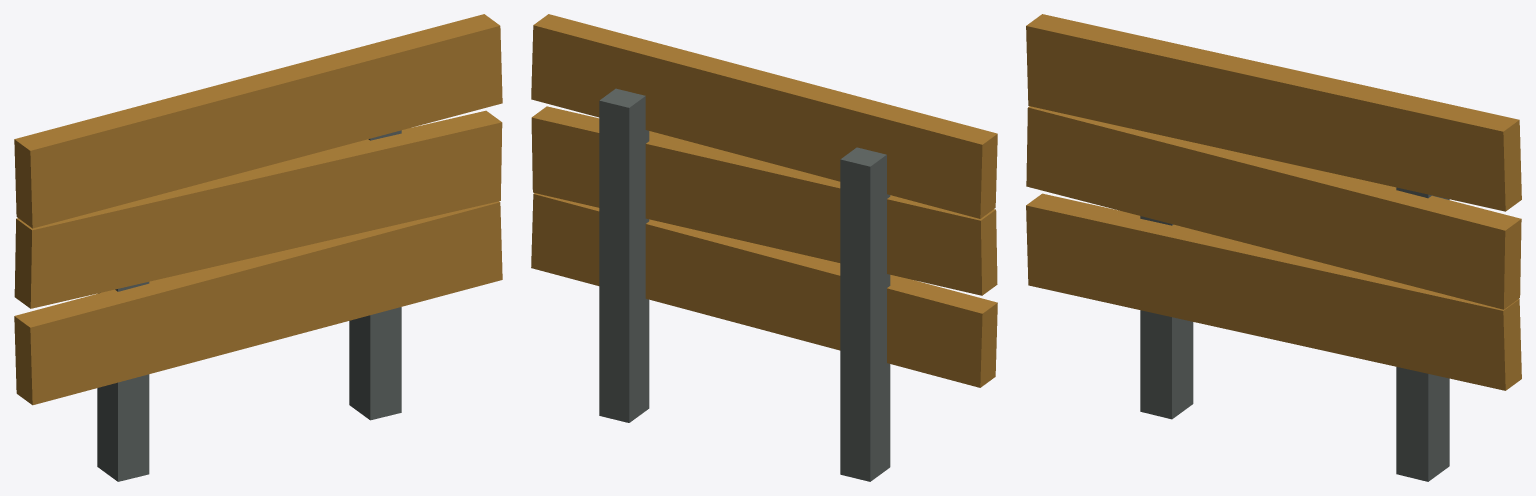
File: sign.fbx
3 renders of one model, left to right at view 1: azimuth 30°, elevation 25°; view 2: azimuth 150°, elevation 25°; view 3: azimuth 330°, elevation 25°, orthographic. The views are drawn at different scales.
Parts seen in each view (by area): view 1: pCube7; view 2: pCube7; view 3: pCube7.
Part boxes in pixels (box(x1,y1,x2,y2)): pCube7: box(14, 14, 502, 481); pCube7: box(531, 14, 997, 481); pCube7: box(1026, 14, 1521, 481).
Size of the model in its own units: 119 by 90.42 by 14.55.
Materials: 1 (1 with a texture image).
